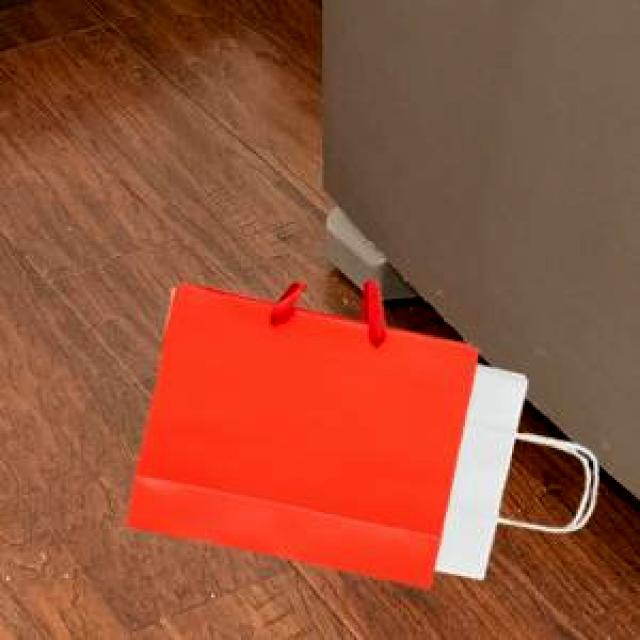Paper_Bag: (122, 278, 474, 586), (432, 362, 594, 577)
